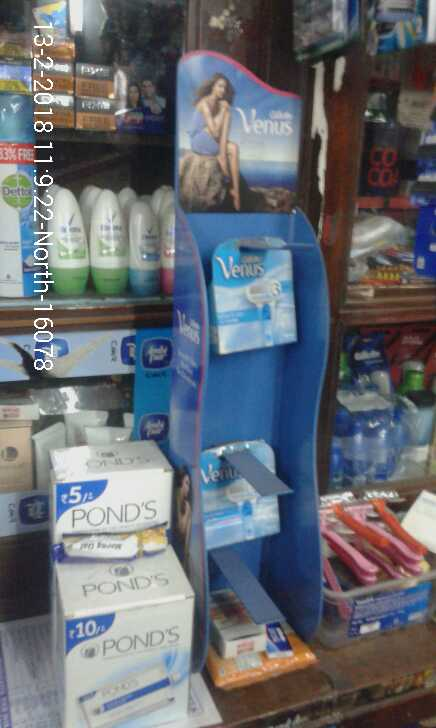venus: (207, 232, 309, 354), (192, 447, 292, 554)
